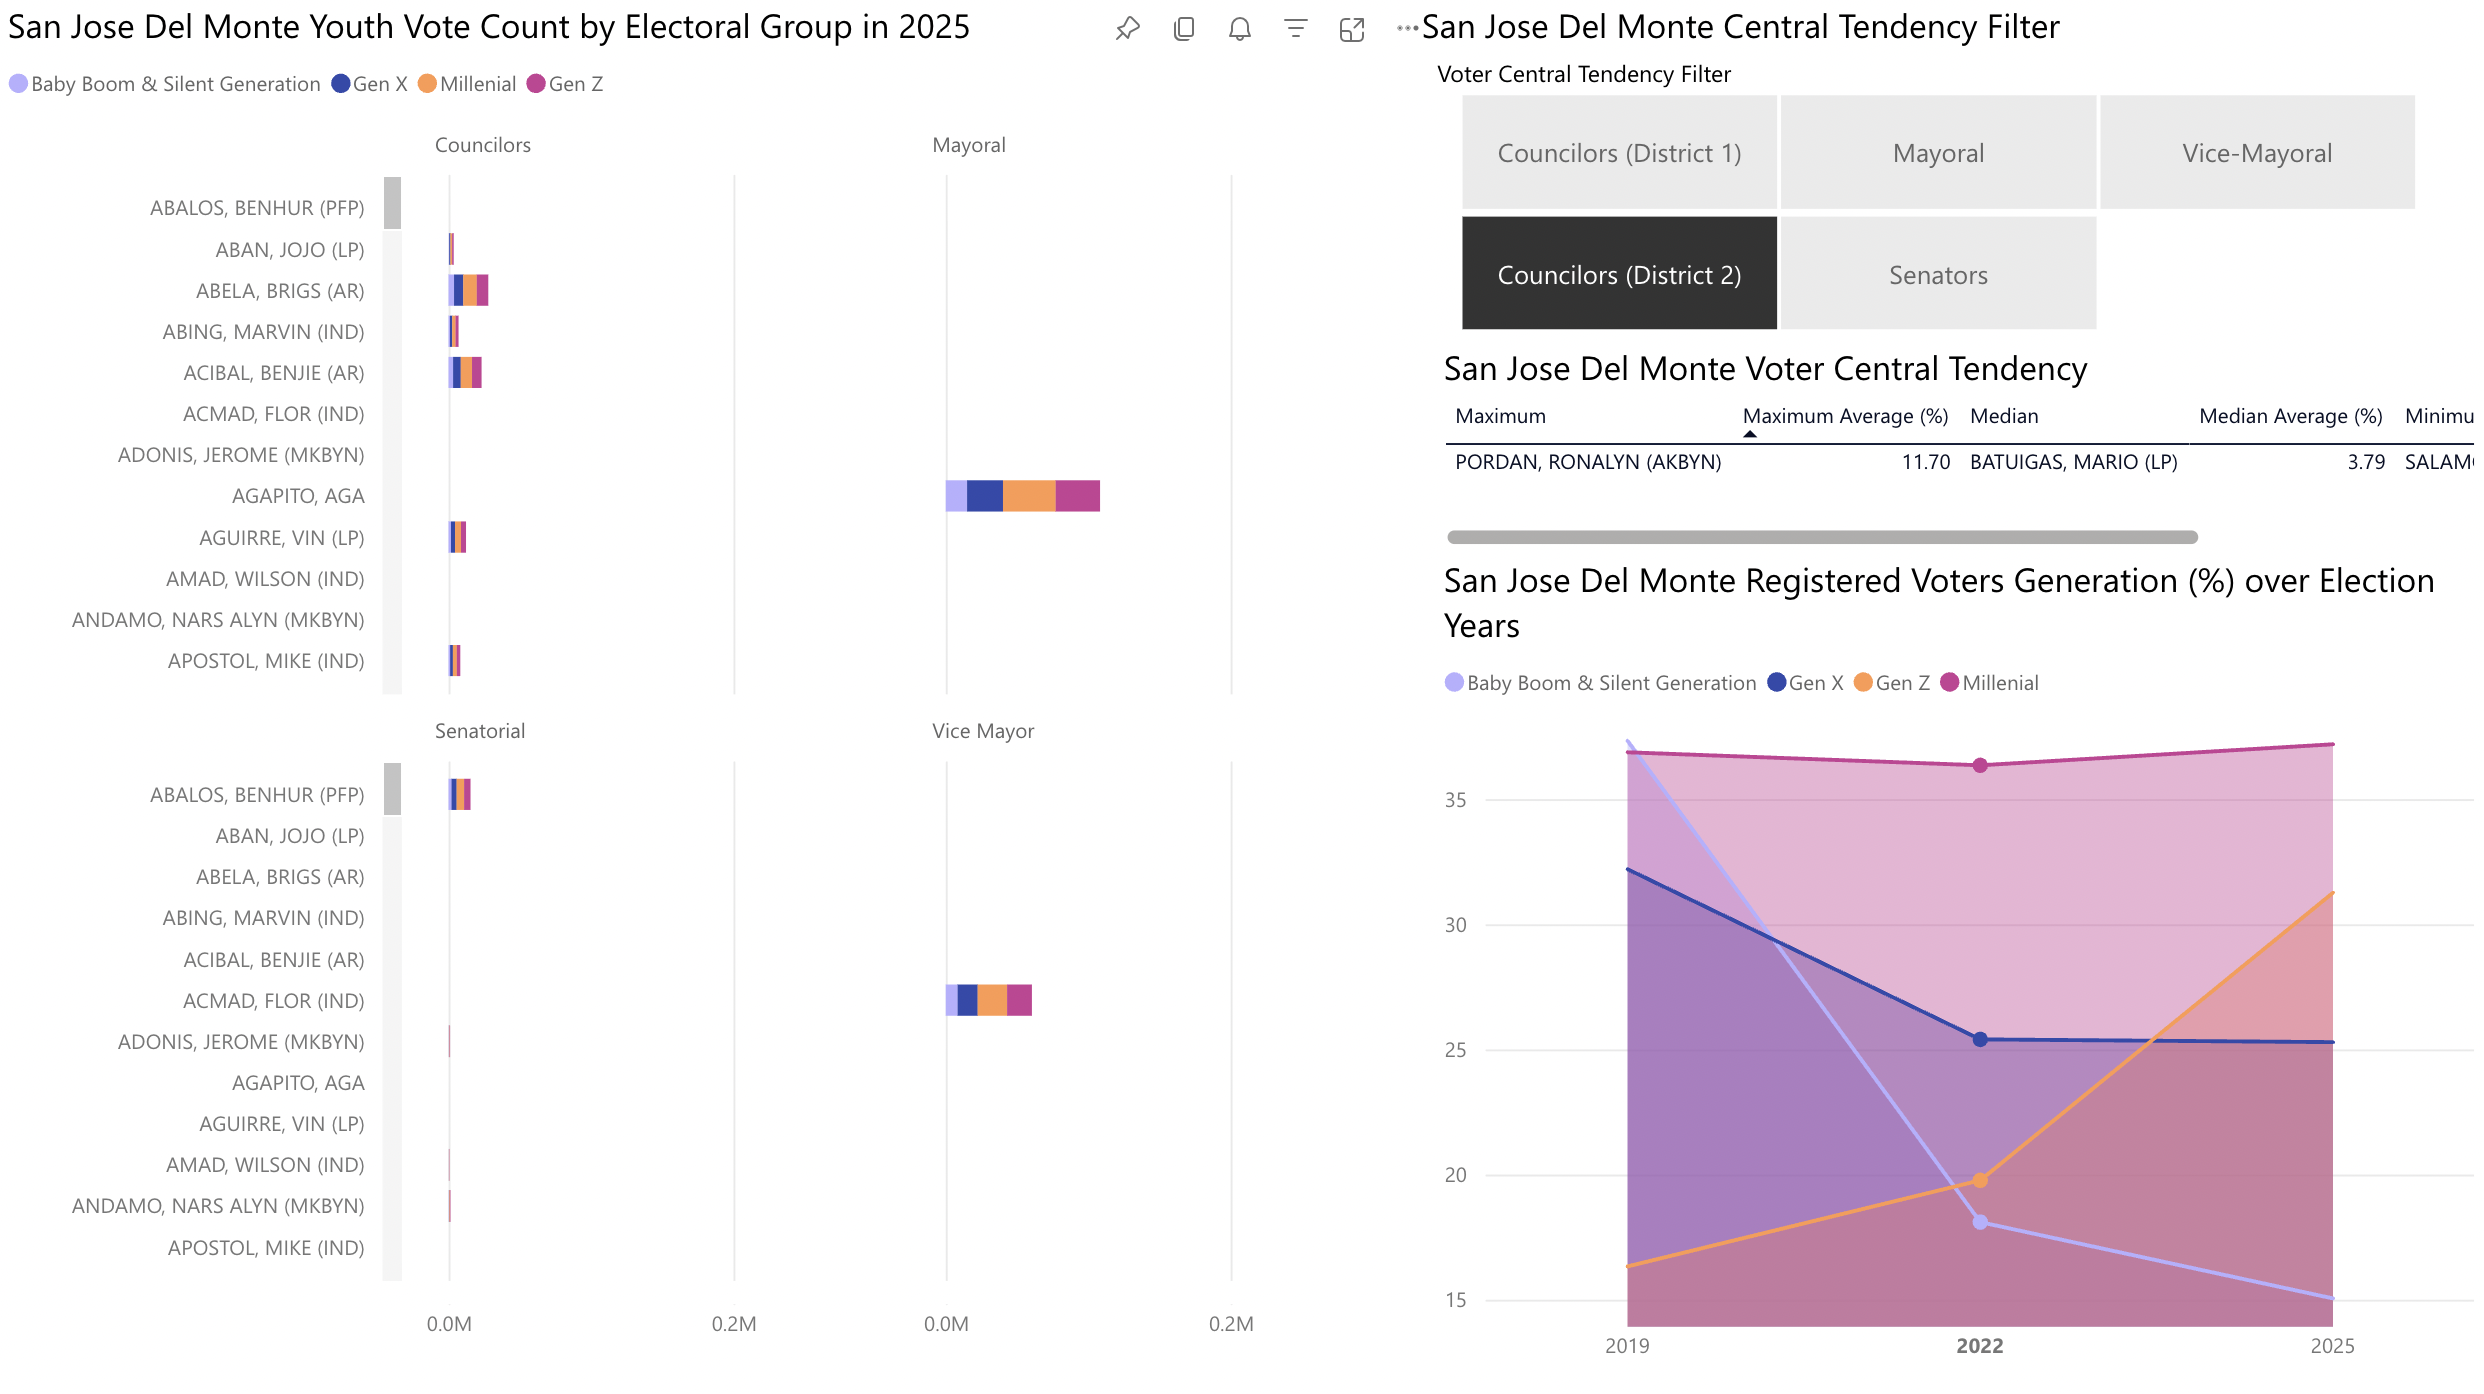

What the dashboard file says about the page in this screenshot:
{"tool":"powerbi","page":{"name":"Page 1","canvas":[1280,720],"ordinal":0},"visuals":[{"type":"areaChart","title":"San Jose Del Monte Registered Voters Generation (%) over Election Years","fields":{"Category":["[DATAVIS] Finals_Research - Voter Youth Statistics.Column1"],"Y":["[DATAVIS] Finals_Research - Voter Youth Statistics.Baby Boom & Silent Generation Registered Voters (%)","[DATAVIS] Finals_Research - Voter Youth Statistics.Gen X Registered Voters (%)","[DATAVIS] Finals_Research - Voter Youth Statistics.Gen Z Registered Voters (%)","[DATAVIS] Finals_Research - Voter Youth Statistics.Millenial Registered Voters (%)"]},"box":[738.9,295.3,540.6,424],"z":0},{"type":"barChart","title":"San Jose Del Monte Youth Vote Count by Electoral Group in 2025","fields":{"Category":["[DATAVIS] Finals_Research - Sorted Youth Vote._1"],"Y":["[DATAVIS] Finals_Research - Sorted Youth Vote.Baby Boom & Silent Generation Registered Voters (%)","[DATAVIS] Finals_Research - Sorted Youth Vote.Gen X Registered Voters (%)","[DATAVIS] Finals_Research - Sorted Youth Vote.Millenial Registered Voters (%)","[DATAVIS] Finals_Research - Sorted Youth Vote.Gen Z Registered Voters (%)"],"Rows":["[DATAVIS] Finals_Research - Sorted Youth Vote.Column1"]},"box":[0,10.6,738.9,698],"z":1000},{"type":"tableEx","title":"San Jose Del Monte Voter Central Tendency","fields":{"Values":["[DATAVIS] Finals_Research - Voter Tendency.Maximum","[DATAVIS] Finals_Research - Voter Tendency.Maximum Average (%)","[DATAVIS] Finals_Research - Voter Tendency.Median","[DATAVIS] Finals_Research - Voter Tendency.Median Average (%)","[DATAVIS] Finals_Research - Voter Tendency.Minimum","[DATAVIS] Finals_Research - Voter Tendency.Minimum Average (%)"]},"box":[738.9,186.2,540.6,109],"z":2000},{"type":"slicer","title":"San Jose Del Monte Central Tendency Filter","fields":{"Values":["[DATAVIS] Finals_Research - Voter Tendency.Column1"]},"box":[728.3,10.6,540.6,175.7],"z":3000}]}

Visuals, with their boxes on the page's 1280x720 design canvas (x1, y1, x2, y2). These are canvas units, not pixel positions in the 2484x1394 screenshot, which may show the page scaled, cropped or inside an application window:
"San Jose Del Monte Registered Voters Generation (%) over Election Years" areaChart: (x1=739, y1=295, x2=1280, y2=719)
"San Jose Del Monte Youth Vote Count by Electoral Group in 2025" barChart: (x1=0, y1=11, x2=739, y2=709)
"San Jose Del Monte Voter Central Tendency" tableEx: (x1=739, y1=186, x2=1280, y2=295)
"San Jose Del Monte Central Tendency Filter" slicer: (x1=728, y1=11, x2=1269, y2=186)
